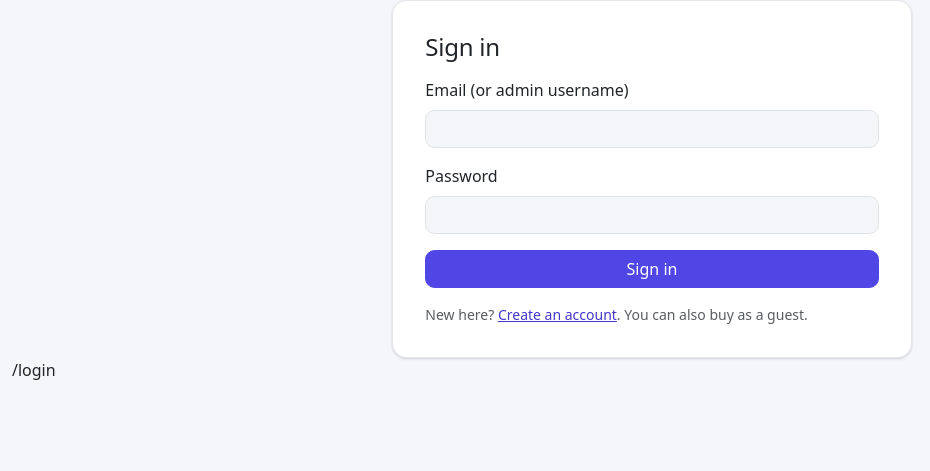
Scenario: LoginPage › moves focus to the message when the failure is not about the fields
Type "ada@example.com" into the field labelled "Email (or admin username)". click: (652, 129)
box: [425,110,879,148]
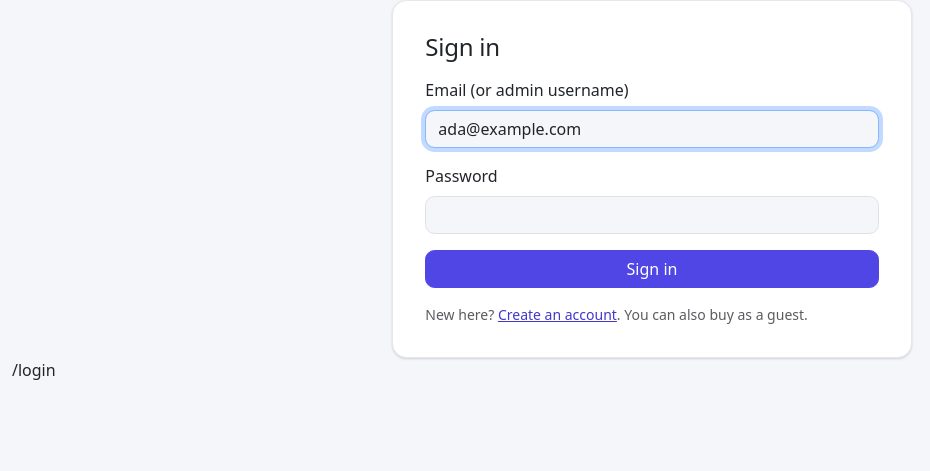
Type "slow green river under old bridges" into the password field labelled "Password". click: (652, 215)
box: [425,196,879,234]
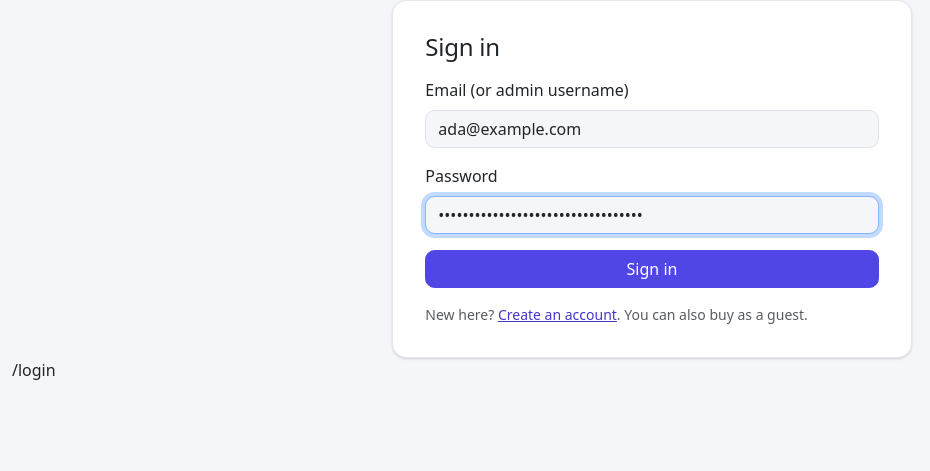
Click the button "Sign in". click: (652, 269)
box: [425,250,879,288]
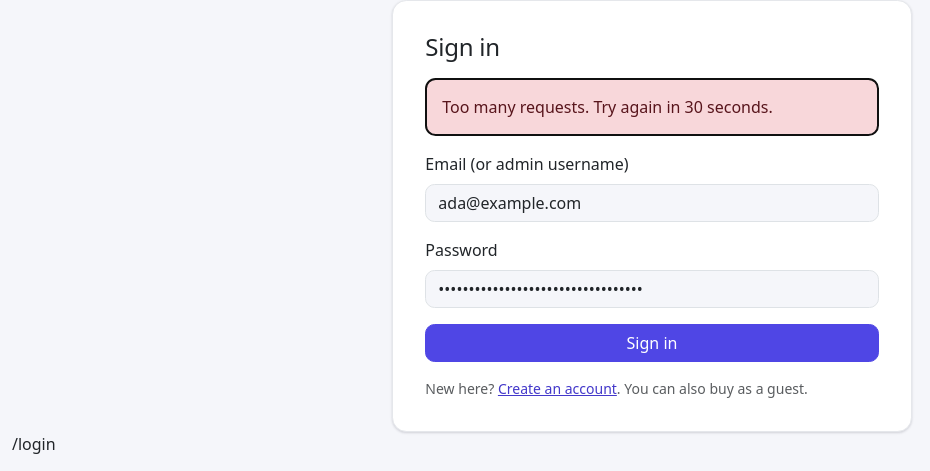
expect the message reads "Too many requests. Try again in 30 seconds.": met, box [442,96,773,118]
